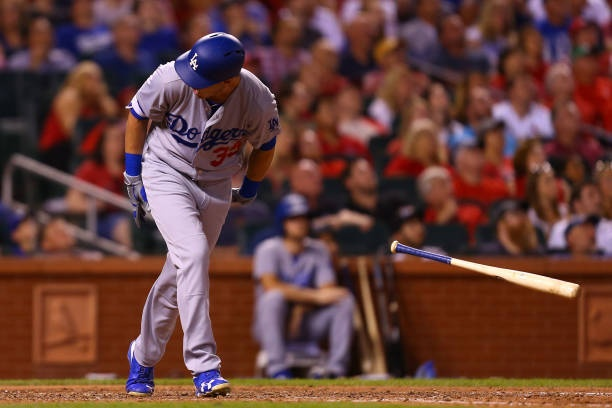bita: (390, 241, 585, 298)
